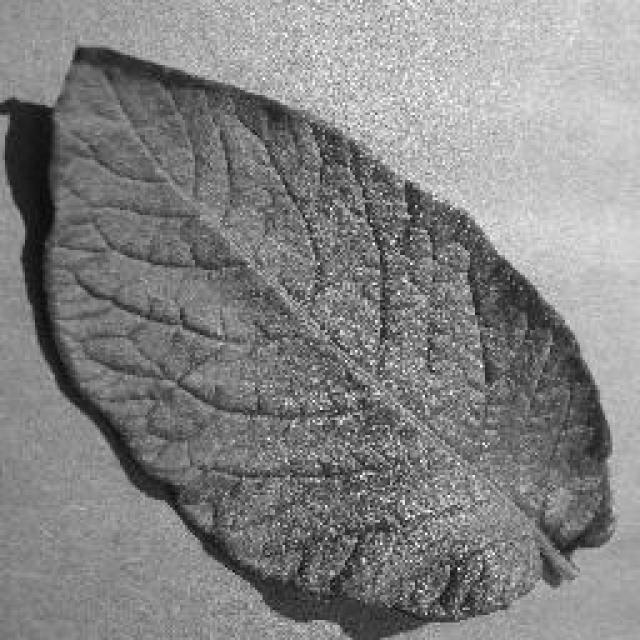Potato: (0, 40, 618, 625)
